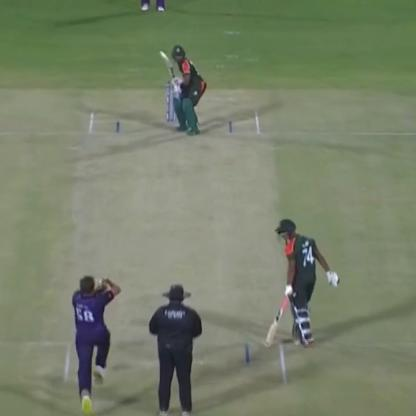ball: (90, 274, 108, 294)
bat: (261, 272, 297, 354), (151, 35, 181, 92)
pitch: (60, 95, 294, 397)
